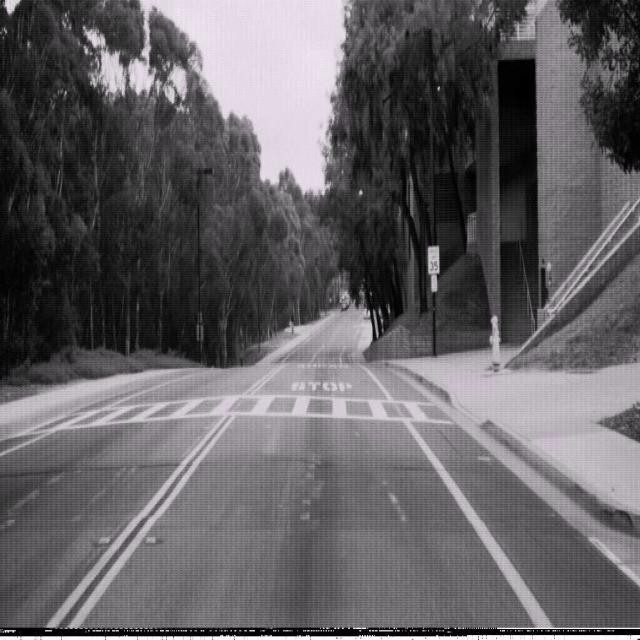speedLimit35: (427, 244, 439, 275)
